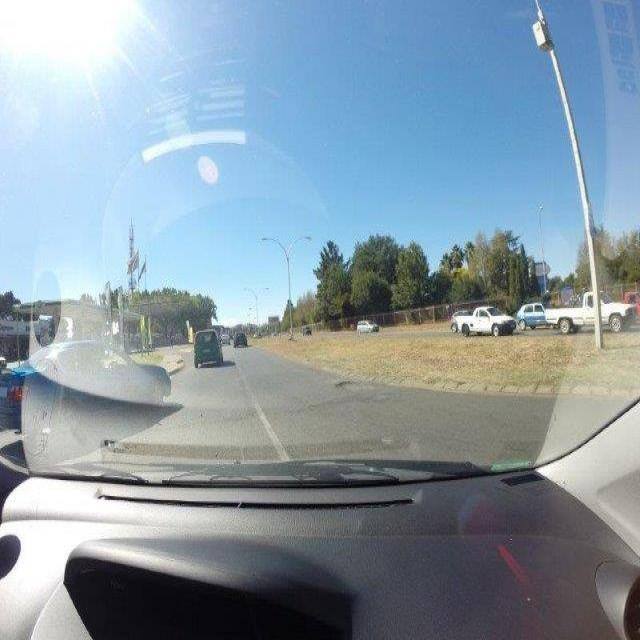lubang: (333, 374, 376, 394)
